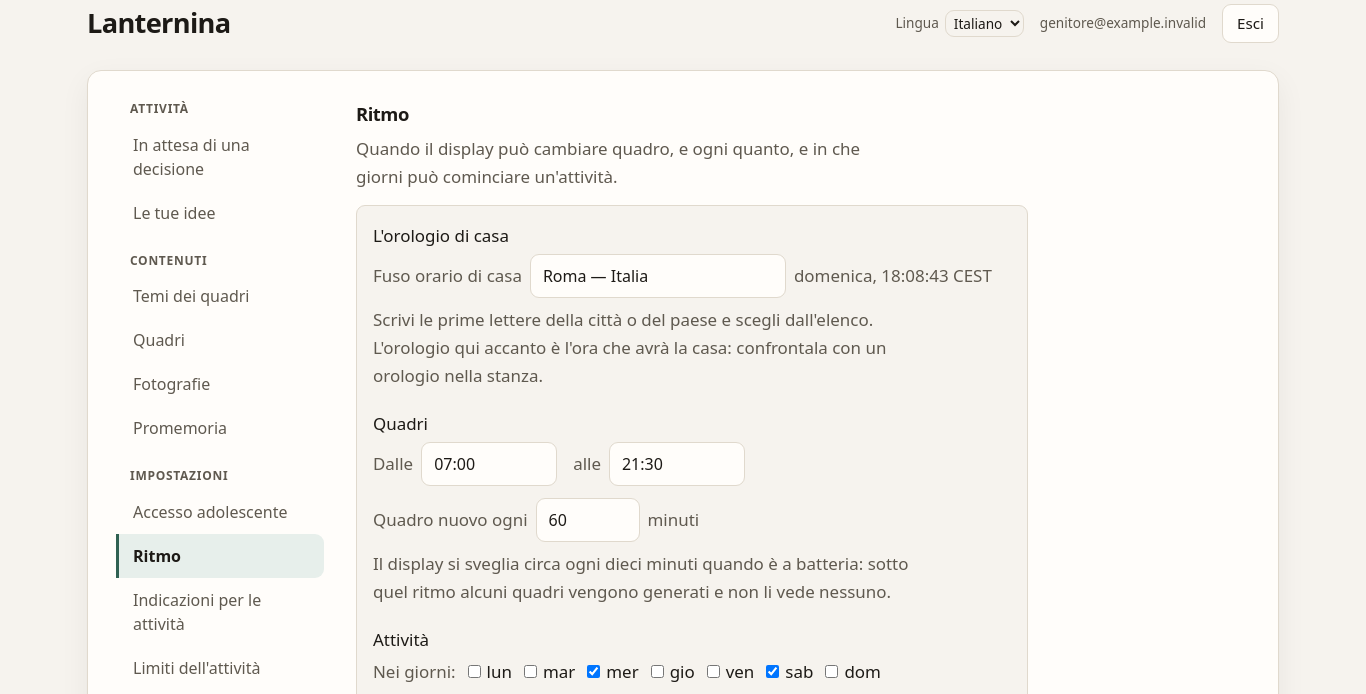
Test: the rhythm › keeps the save button grey until something differs, and greys it again after
The image size is (1366, 694).
Click the button "Ritmo" at (220, 556), box top-left (116, 534), bottom-right (324, 578)
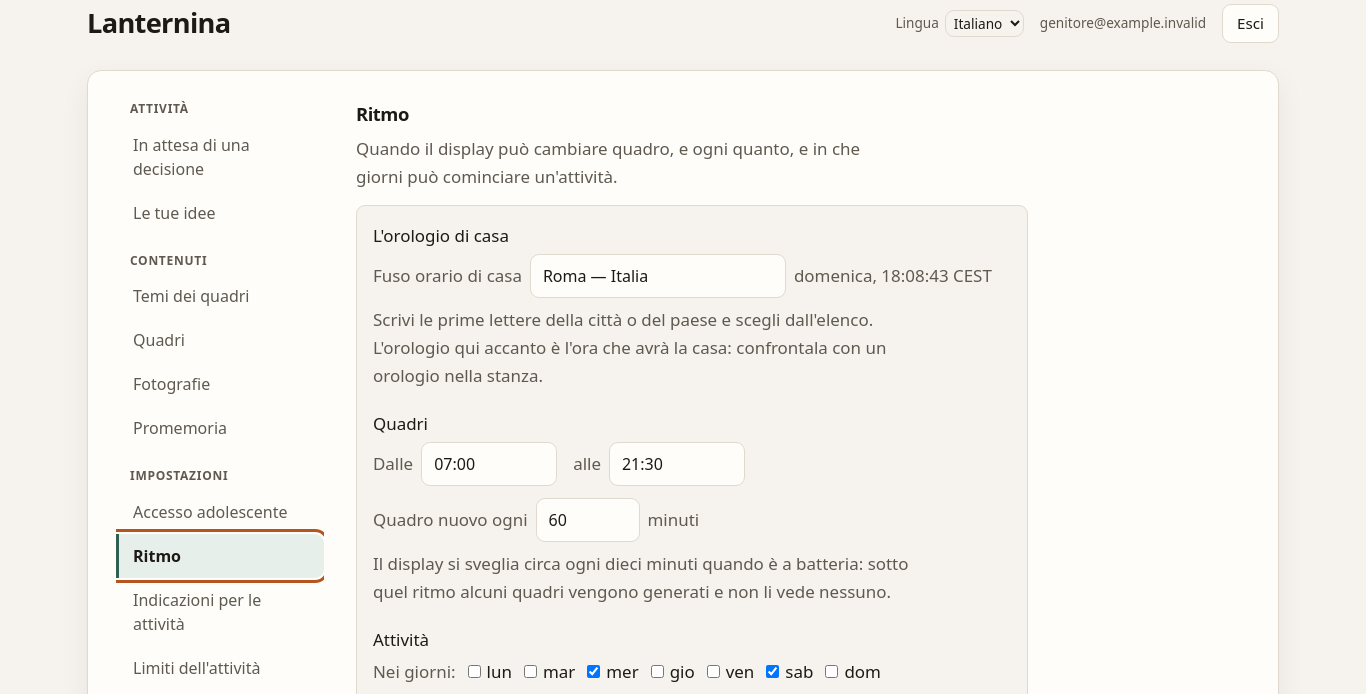
Replace the text in the number field labelled "Quadro nuovo ogni" with "90" at (588, 520), box top-left (536, 498), bottom-right (640, 542)
(page scrolled)
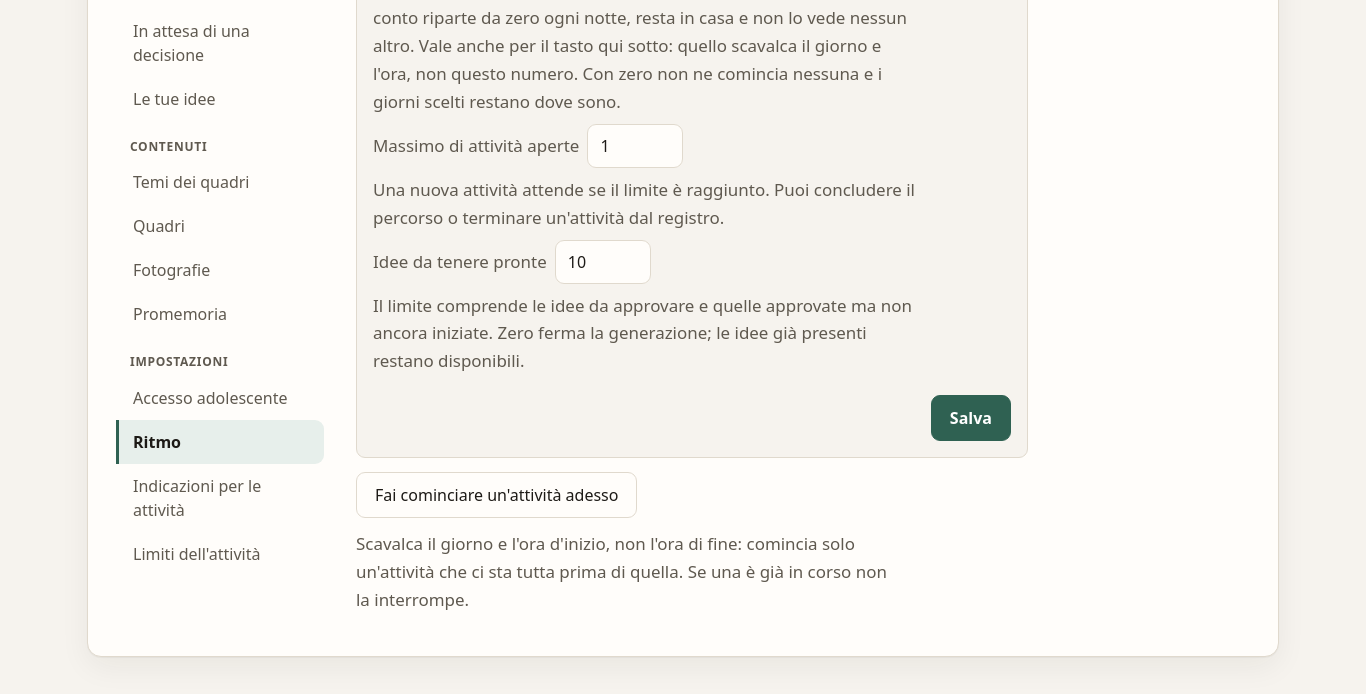
Expected: the button "Salva" is enabled
Click the button "Salva" at (971, 418), box top-left (931, 395), bottom-right (1011, 441)
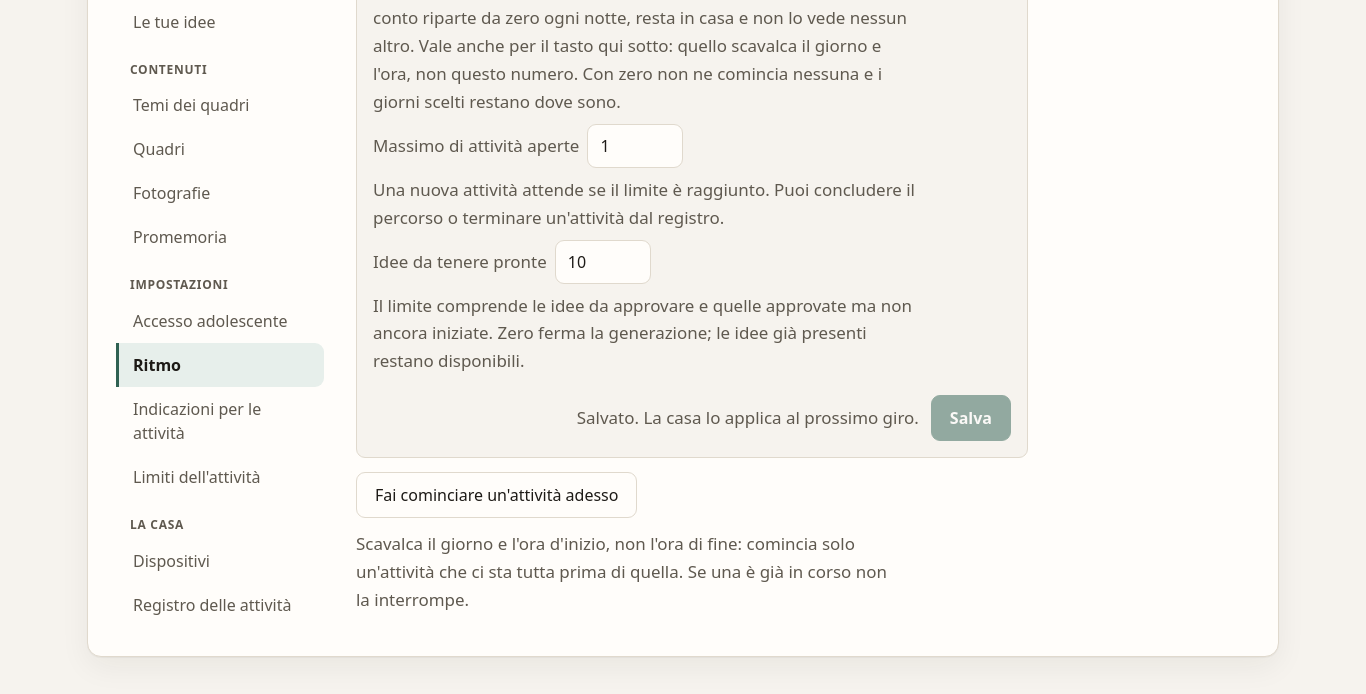
Expected: the button "Salva" is disabled, top-left (931, 395), bottom-right (1011, 441)
